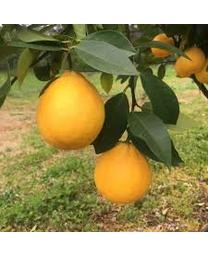lemon: (36, 72, 106, 149), (97, 143, 149, 204)
